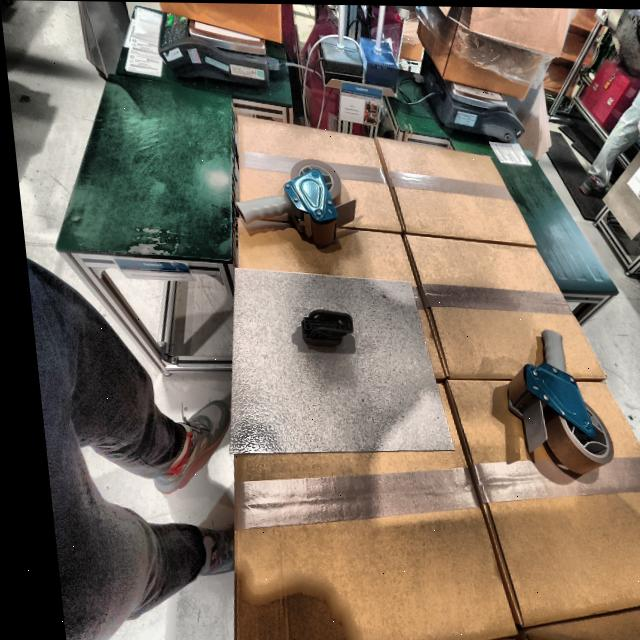P38: (295, 309, 346, 346)
